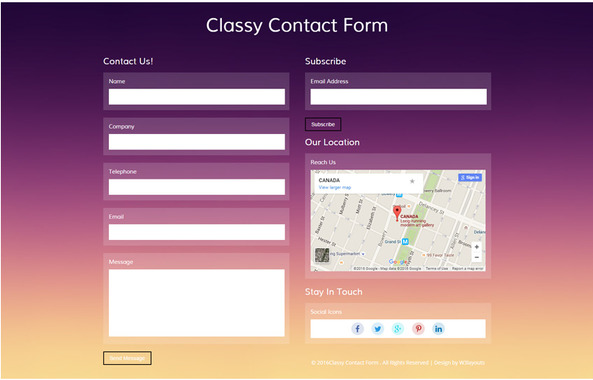_form_: (77, 1, 493, 380)
button: (102, 350, 155, 366), (304, 116, 344, 133)
field: (106, 267, 287, 339), (107, 176, 288, 197), (107, 132, 287, 153), (107, 87, 288, 107), (308, 87, 488, 107), (107, 222, 286, 242)
field_with_label: (105, 257, 289, 341), (104, 123, 288, 154), (307, 77, 489, 108), (105, 213, 287, 244), (105, 78, 290, 108), (105, 168, 289, 198)
